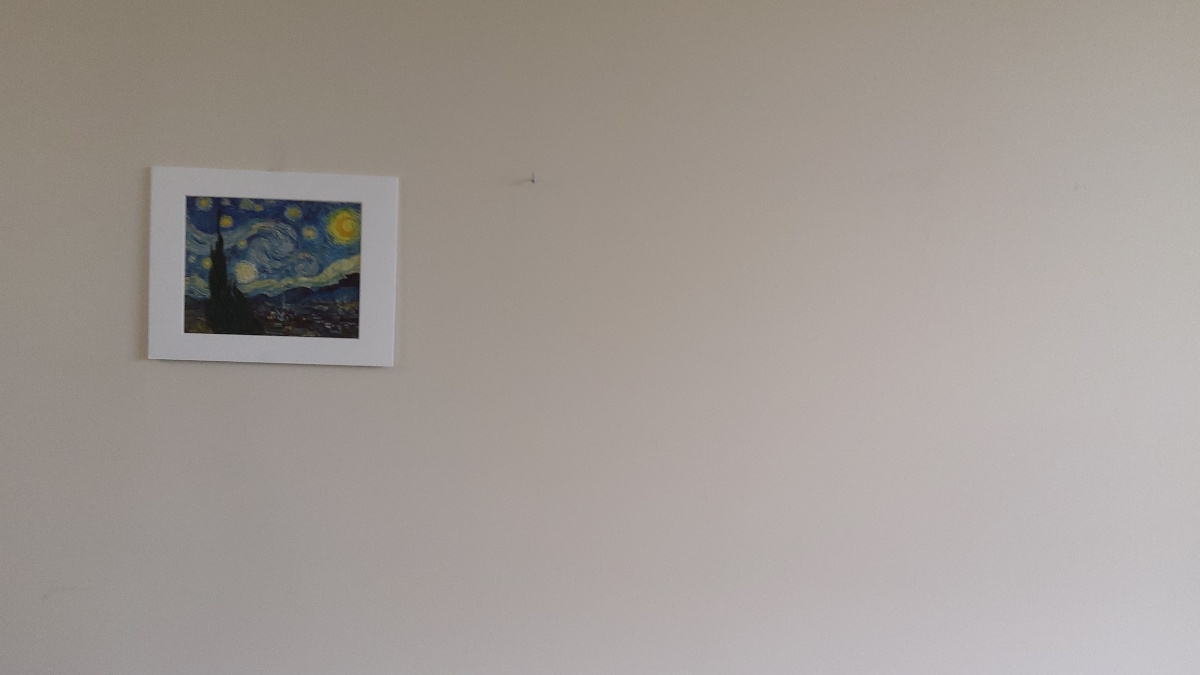painting: (178, 185, 372, 348)
